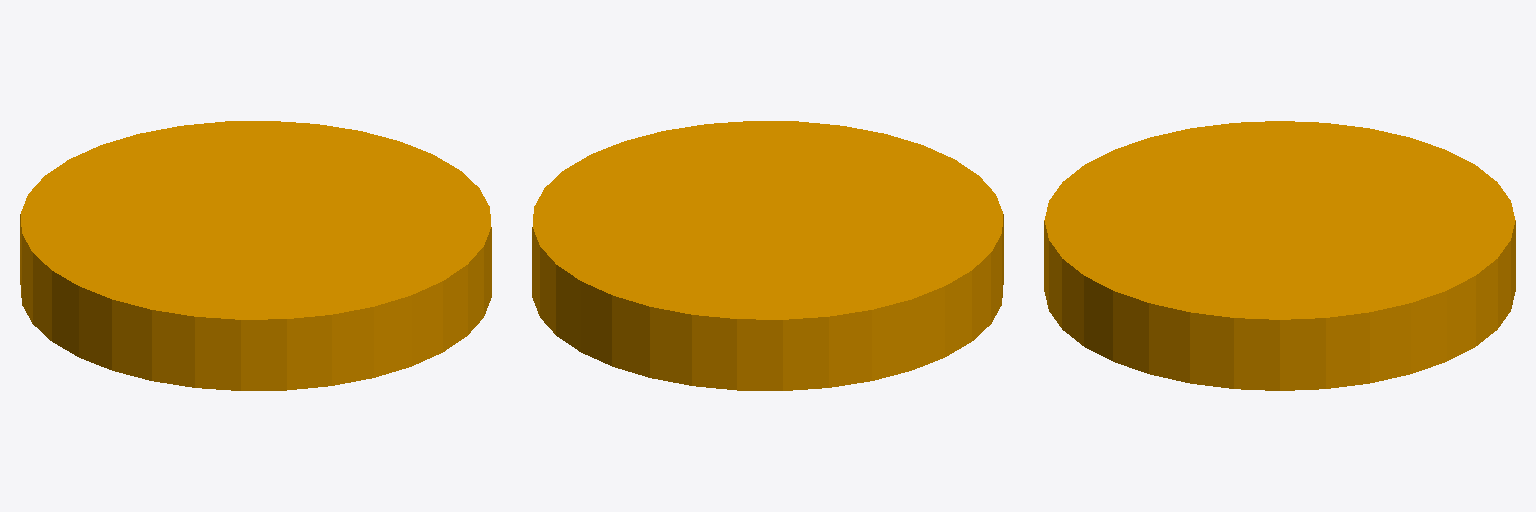
The robot description file, URDF, robot "robomaster":
<?xml version="1.0" ?>
<!-- =================================================================================== -->
<!-- |    This document was autogenerated by xacro from test.urdf.xacro                | -->
<!-- |    EDITING THIS FILE BY HAND IS NOT RECOMMENDED                                 | -->
<!-- =================================================================================== -->
<robot name="robomaster">
  <link name="base_link">
    <inertial>
      <origin rpy="0 0 0" xyz="0 0 0"/>
      <mass value="0.5"/>
      <inertia ixx="0.1" ixy="0" ixz="0" iyy="0.1" iyz="0" izz="0.1"/>
    </inertial>
    <visual name="visual_0_base_link">
      <origin rpy="0 0 0" xyz="0 0 0"/>
      <geometry>
        <cylinder length="0.1" radius="0.3"/>
      </geometry>
    </visual>
    <collision name="collision_0_base_link">
      <origin rpy="0 0 0" xyz="0 0 0"/>
      <geometry>
        <cylinder length="0.08" radius="0.1"/>
      </geometry>
    </collision>
  </link>
</robot>

--- Facts derived from the render (not from the file) ---
The picture shows the robot from 3 angles, left to right: view 1: azimuth 30°, elevation 25°; view 2: azimuth 150°, elevation 25°; view 3: azimuth 270°, elevation 25°; orthographic projection.
Model robomaster with 1 links and 0 joints (none), rooted at base_link, posed all joints at 0.
Visible links, largest first — view 1: base_link; view 2: base_link; view 3: base_link.
Link boxes in pixels (x1=…): base_link: x1=20, y1=121, x2=491, y2=390; base_link: x1=532, y1=121, x2=1003, y2=390; base_link: x1=1044, y1=121, x2=1515, y2=390.
Size in the robot's own frame: 0.6 by 0.6 by 0.1 metres.
Geometry: primitives only (box / cylinder / sphere), no mesh files.
